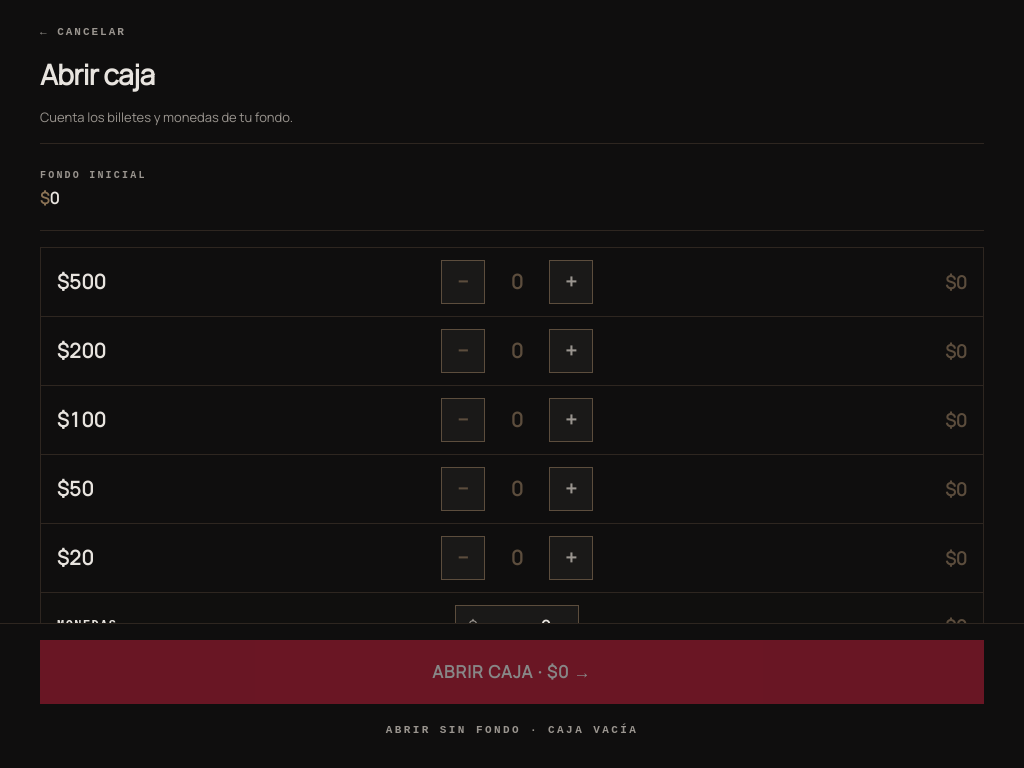
Test case: OpenCajaPage › toggling "Sin fondo" link enables CTA with empty counts
This screenshot has width=1024, height=768.
What coordinates should you click on to do the following:
click the button "Abrir sin fondo · caja vacía"
I would click on:
 (512, 730)
Its box is top-left (40, 708), bottom-right (984, 752).
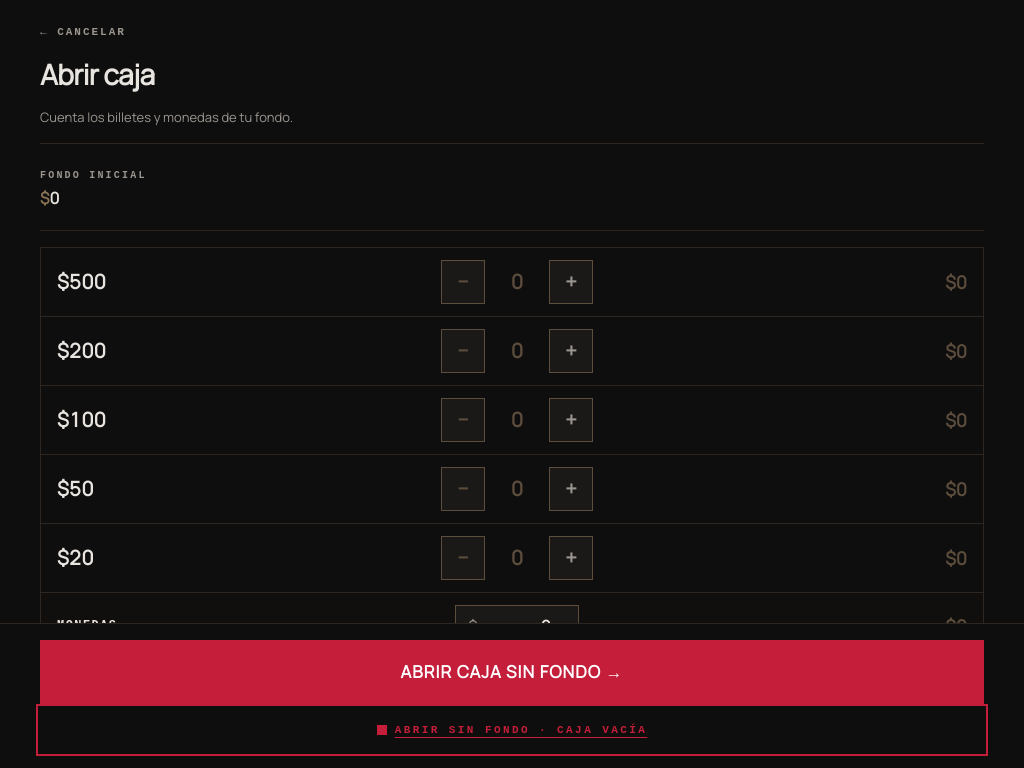
Now the button "Abrir caja sin fondo →" is enabled, box top-left (40, 640), bottom-right (984, 704)
